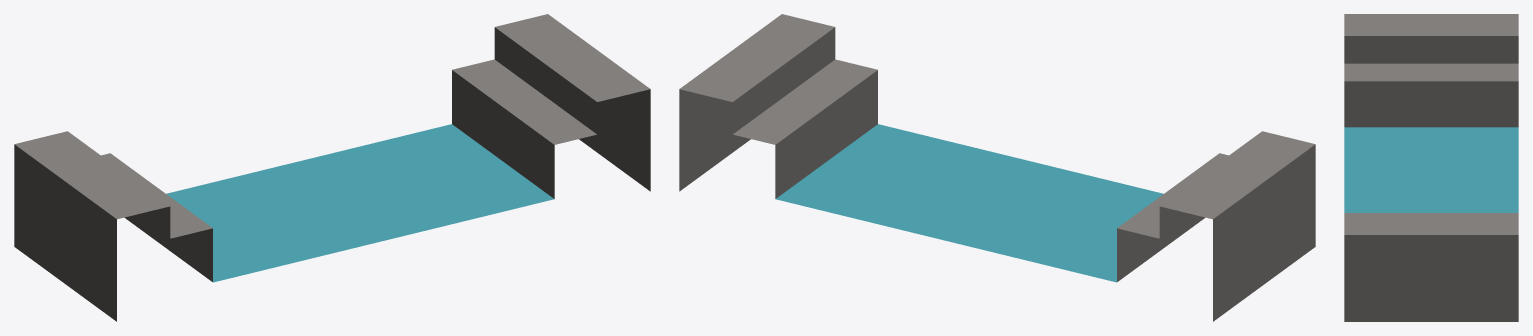
The model's file is SF_Bld_Elven_Stream_Straight_01.fbx.
3 views of the same model, side by side, from view 1: azimuth 30°, elevation 25°; view 2: azimuth 150°, elevation 25°; view 3: azimuth 270°, elevation 25° (orthographic). The views are drawn at different scales.
Visible parts, largest first — view 1: SF_Env_Elven_Stream_Straight_01; view 2: SF_Env_Elven_Stream_Straight_01; view 3: SF_Env_Elven_Stream_Straight_01.
Part boxes in pixels (left/top/right/bottom): SF_Env_Elven_Stream_Straight_01: left=14, top=14, right=650, bottom=321; SF_Env_Elven_Stream_Straight_01: left=679, top=14, right=1315, bottom=321; SF_Env_Elven_Stream_Straight_01: left=1344, top=14, right=1518, bottom=321.
Bounding box in the file's own units: 3 × 0.5512 × 1.
